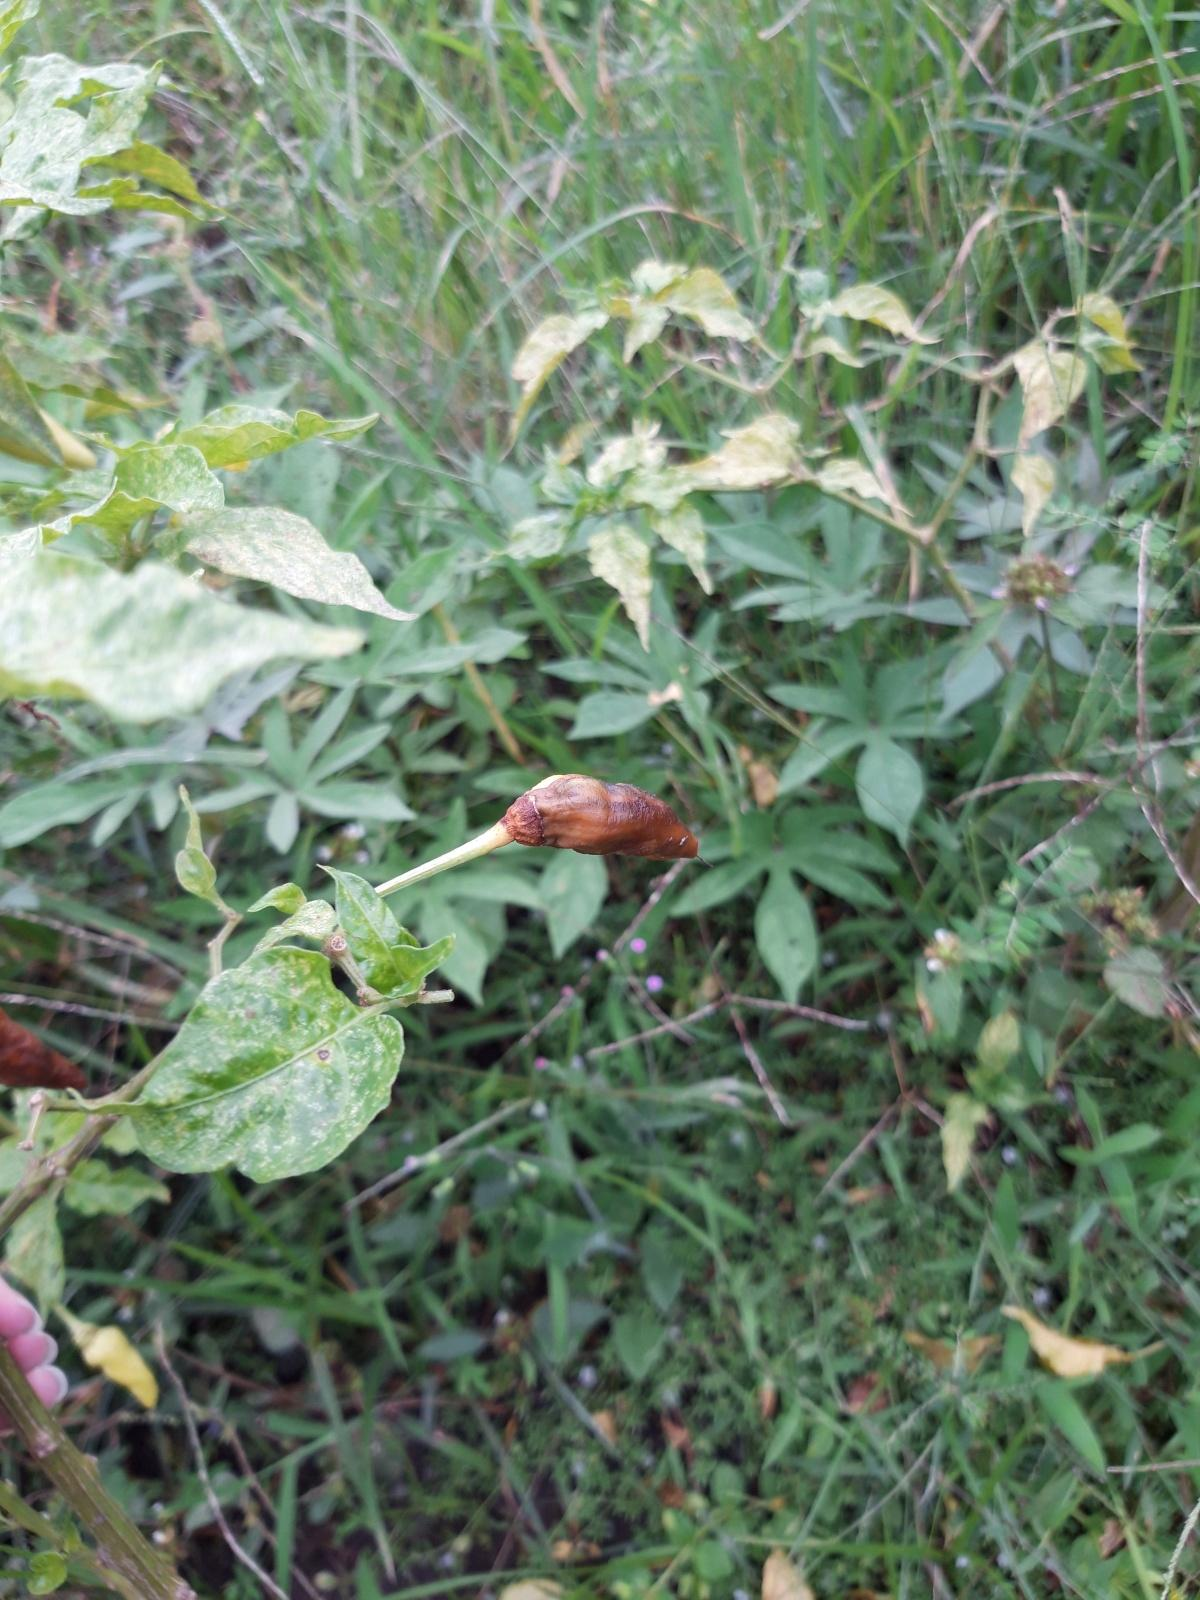lalat_buah: (501, 772, 700, 860)
